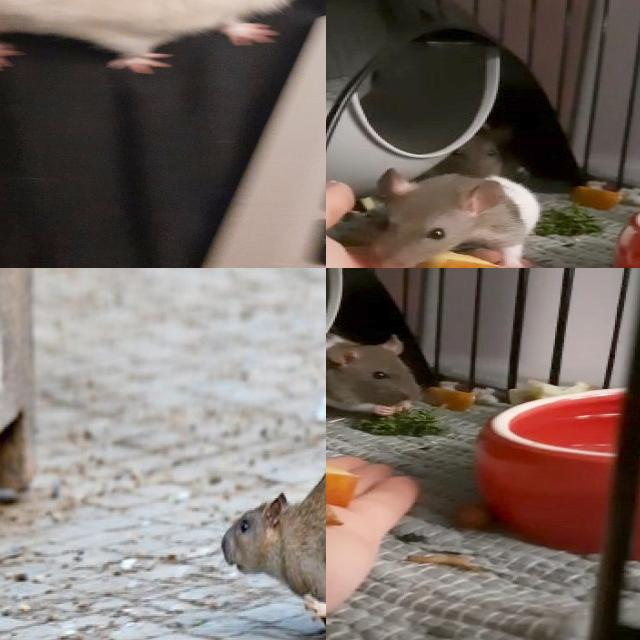rat: (0, 0, 326, 73), (365, 172, 552, 268), (221, 447, 326, 610), (326, 333, 420, 420)
